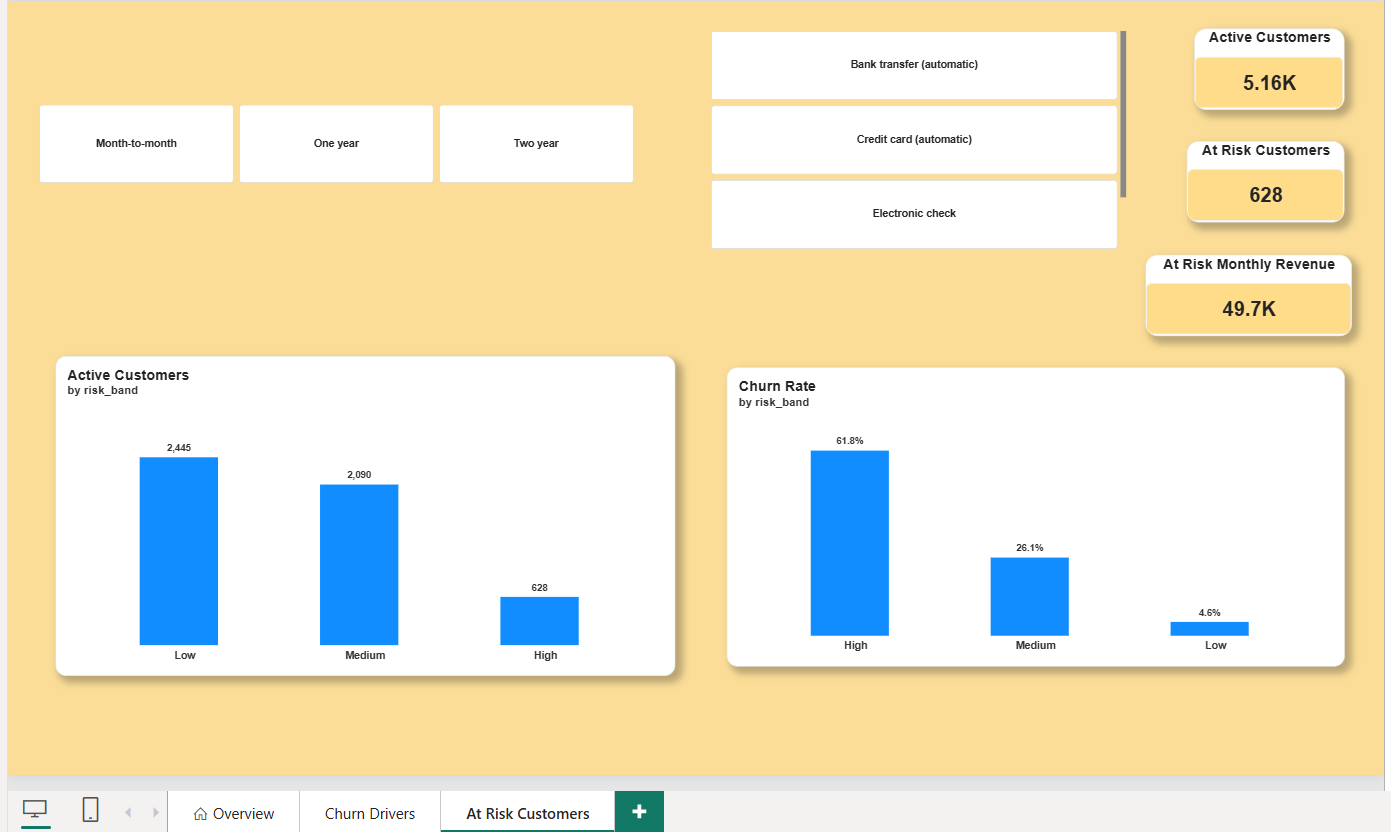

The dashboard page shown, as its layout file describes it:
{"tool":"powerbi","page":{"name":"At Risk Customers","canvas":[1920,1080],"ordinal":2},"visuals":[{"type":"clusteredColumnChart","fields":{"Y":["Churn_risk.Churn Rate"],"Category":["Churn_risk.risk_band"]},"box":[1002.4,510.5,862.4,417.8],"z":0},{"type":"clusteredColumnChart","fields":{"Category":["Churn_risk.risk_band"],"Y":["Churn_risk.Active Customers"]},"box":[65.9,496.1,864.5,446.7],"z":1000},{"type":"cardVisual","title":"At Risk Customers","fields":{"Data":["Churn_risk.At-Risk Customers"]},"box":[1644.6,195.5,220.2,113.2],"z":2000},{"type":"cardVisual","title":"At Risk Monthly Revenue","fields":{"Data":["Churn_risk.At-Risk Monthly Revenue"]},"box":[1587,354,288.2,113.2],"z":3000},{"type":"cardVisual","title":"Active Customers","fields":{"Data":["Churn_risk.Active Customers"]},"box":[1654.9,39.1,209.9,113.2],"z":4000},{"type":"advancedSlicerVisual","fields":{"Values":["Churn_risk.Contract"]},"box":[43.2,144.1,831.6,109.1],"z":5000},{"type":"advancedSlicerVisual","fields":{"Values":["Churn_risk.PaymentMethod"]},"box":[979.8,41.2,580.4,306.7],"z":6000}]}

Visuals, with their boxes in screenshot pixels (x1, y1, x2, y2):
clusteredColumnChart - Churn_risk.Churn Rate x Churn_risk.risk_band: bbox=(723, 365, 1340, 663)
clusteredColumnChart - Churn_risk.risk_band x Churn_risk.Active Customers: bbox=(54, 354, 672, 674)
"At Risk Customers" cardVisual: bbox=(1182, 140, 1340, 221)
"At Risk Monthly Revenue" cardVisual: bbox=(1141, 253, 1347, 334)
"Active Customers" cardVisual: bbox=(1190, 28, 1340, 109)
advancedSlicerVisual - Churn_risk.Contract: bbox=(38, 103, 632, 181)
advancedSlicerVisual - Churn_risk.PaymentMethod: bbox=(707, 29, 1122, 249)
